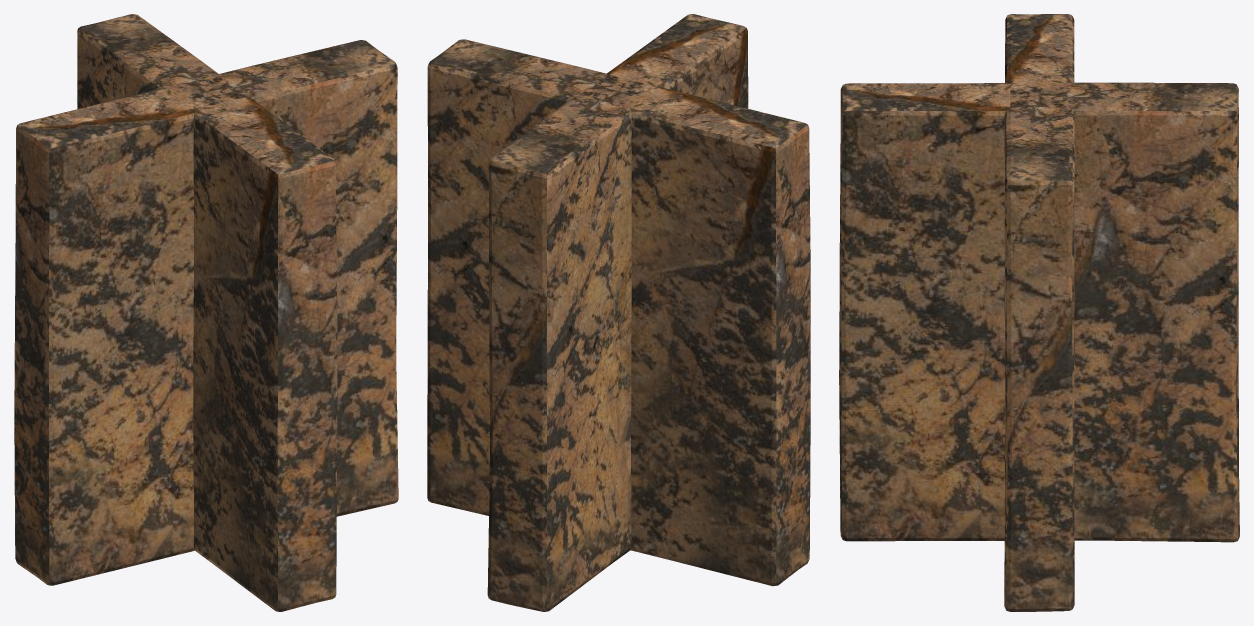
The model's file is wall_corner.glb.
3 renders of one model, left to right at view 1: azimuth 30°, elevation 25°; view 2: azimuth 150°, elevation 25°; view 3: azimuth 270°, elevation 25°, orthographic.
Visible parts, largest first — view 1: wall_corner; view 2: wall_corner; view 3: wall_corner.
Boxes of the visible parts, x1,y1,x2,y2 form: wall_corner: (14,14,398,611); wall_corner: (427,14,810,611); wall_corner: (839,14,1239,611).
Bounding box in the file's own units: 2.01 × 2.4 × 2.01.
Materials: 1 (1 with a texture image).
